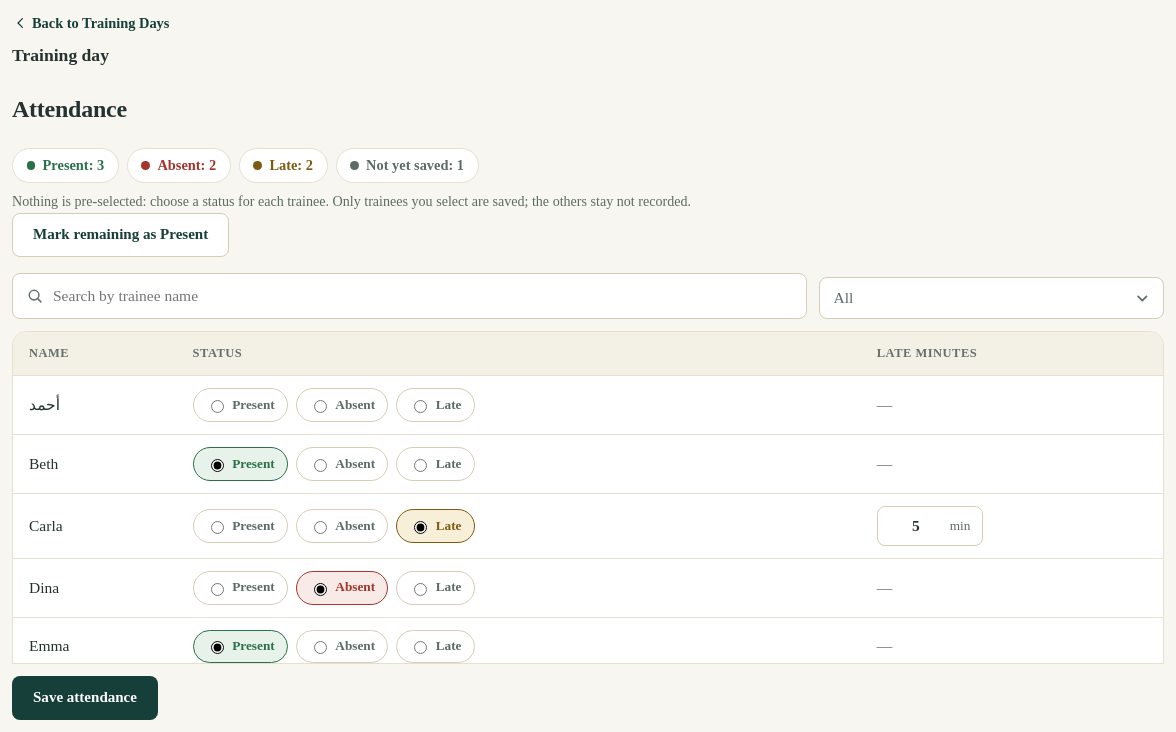
Scenario: Supervisor attendance page › search and status filter (display only) › filters displayed rows by Arabic-normalised name and by status, with a live summary
Expected: the text "Beth" is shown, 13,434 -> 177,493
Expected: the list item "Not yet saved: 1" is shown, 336,148 -> 479,183
In the search field named "Search trainees": point(410, 296) 12,273 -> 807,318, type "احمد"
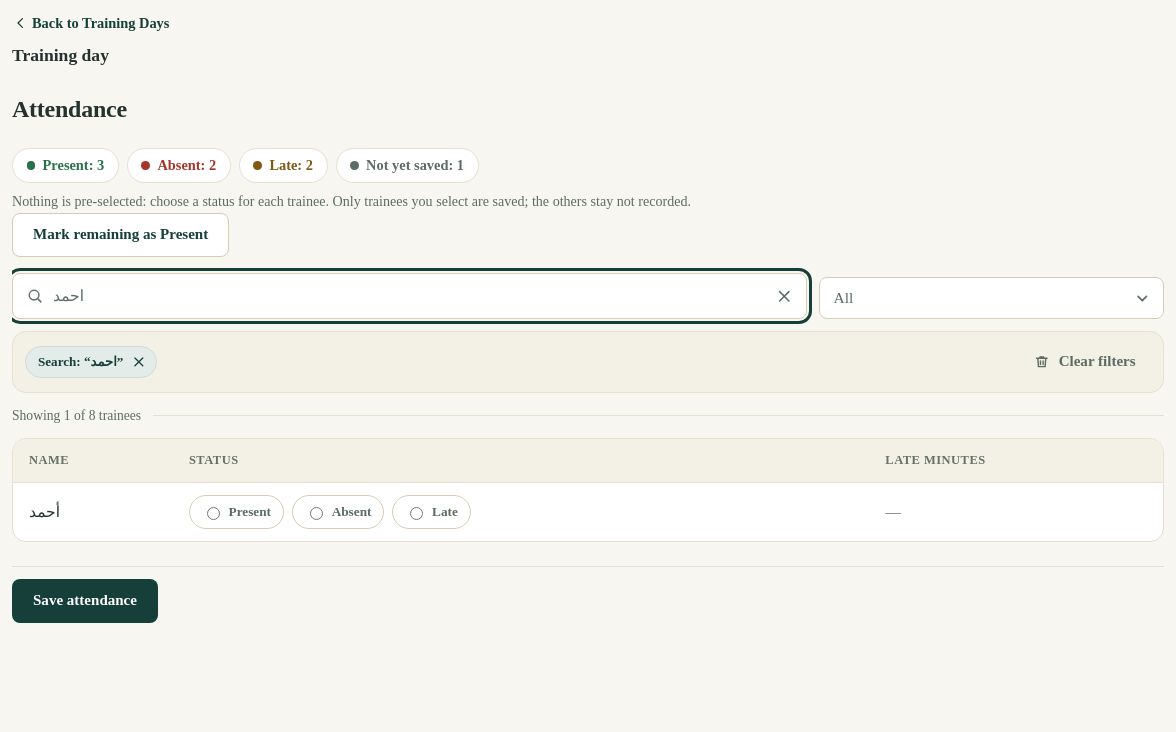
Expected: the text "أحمد" is shown, 13,483 -> 173,541
Now the text "Beth" is gone
Now the text "Showing 1 of 8 trainees" is shown, box 12,405 -> 141,426
Clear the search field named "Search trainees": point(410, 296) 12,273 -> 807,318
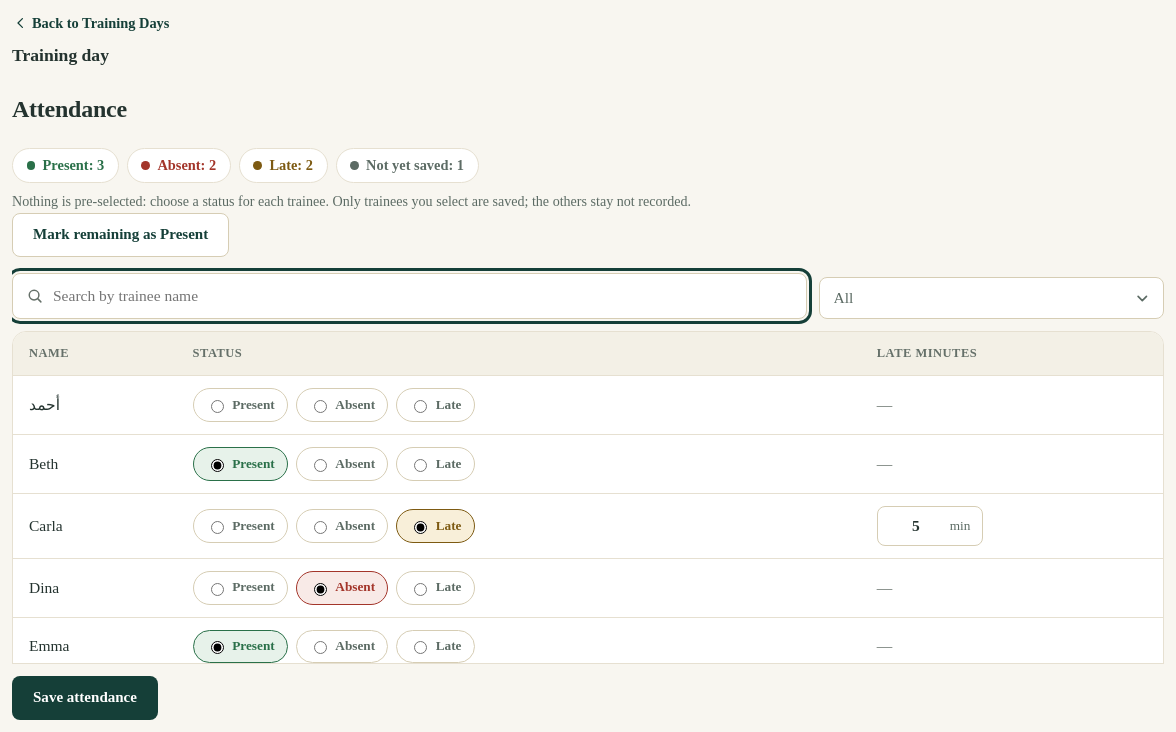
Now the text "Beth" is shown, box 13,434 -> 177,493
Click the dropdown named "Status": point(844, 297) 819,277 -> 1164,319
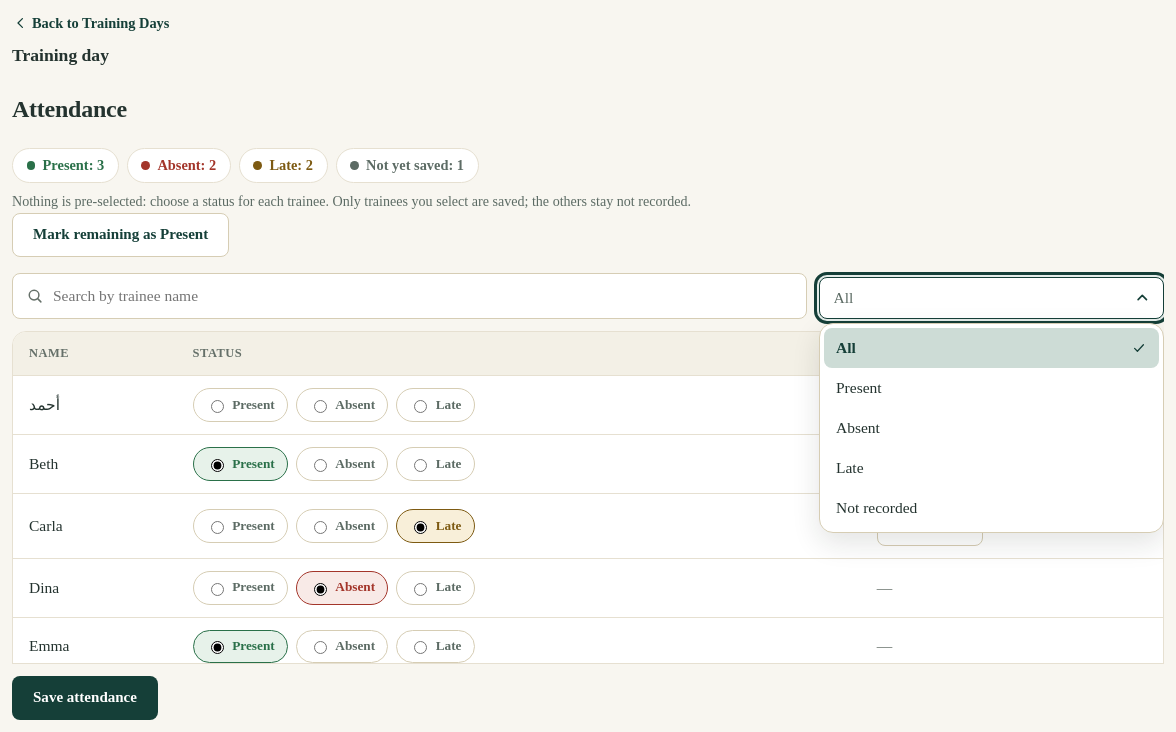
Click the option "Late": point(850, 467) 836,459 -> 864,476
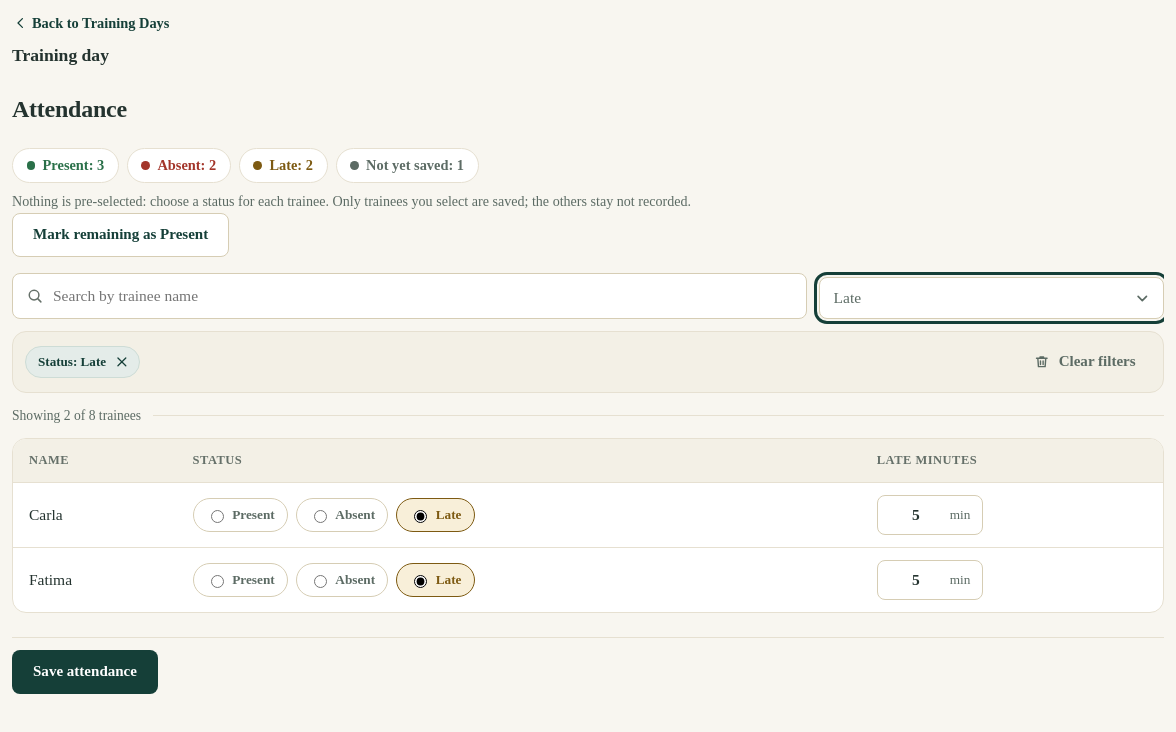
Now the text "Carla" is shown, box 13,483 -> 177,548
Now the text "Beth" is gone
In the search field named "Search trainees": point(410, 296) 12,273 -> 807,318, type "zzz"
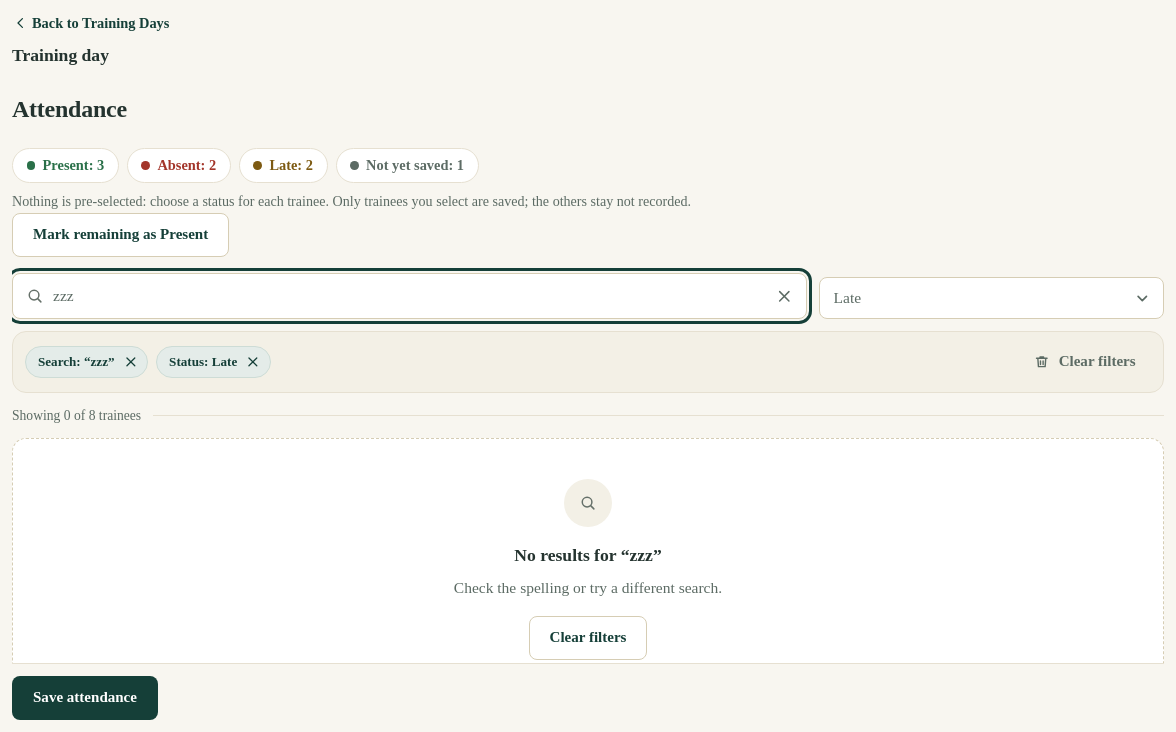
Now the heading "No results for “zzz”" is shown, box 514,545 -> 662,565
Click the 1st button "Clear filters": point(1084, 362) 1018,340 -> 1151,384
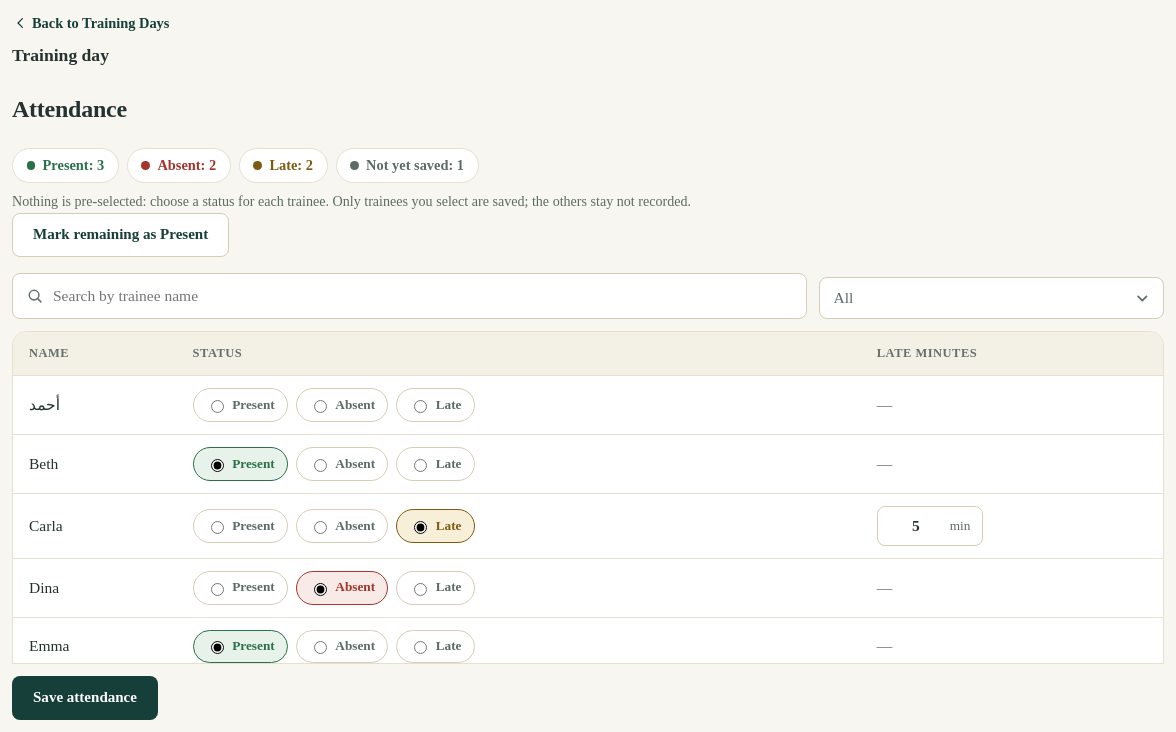
Now the text "Beth" is shown, box 13,434 -> 177,493
